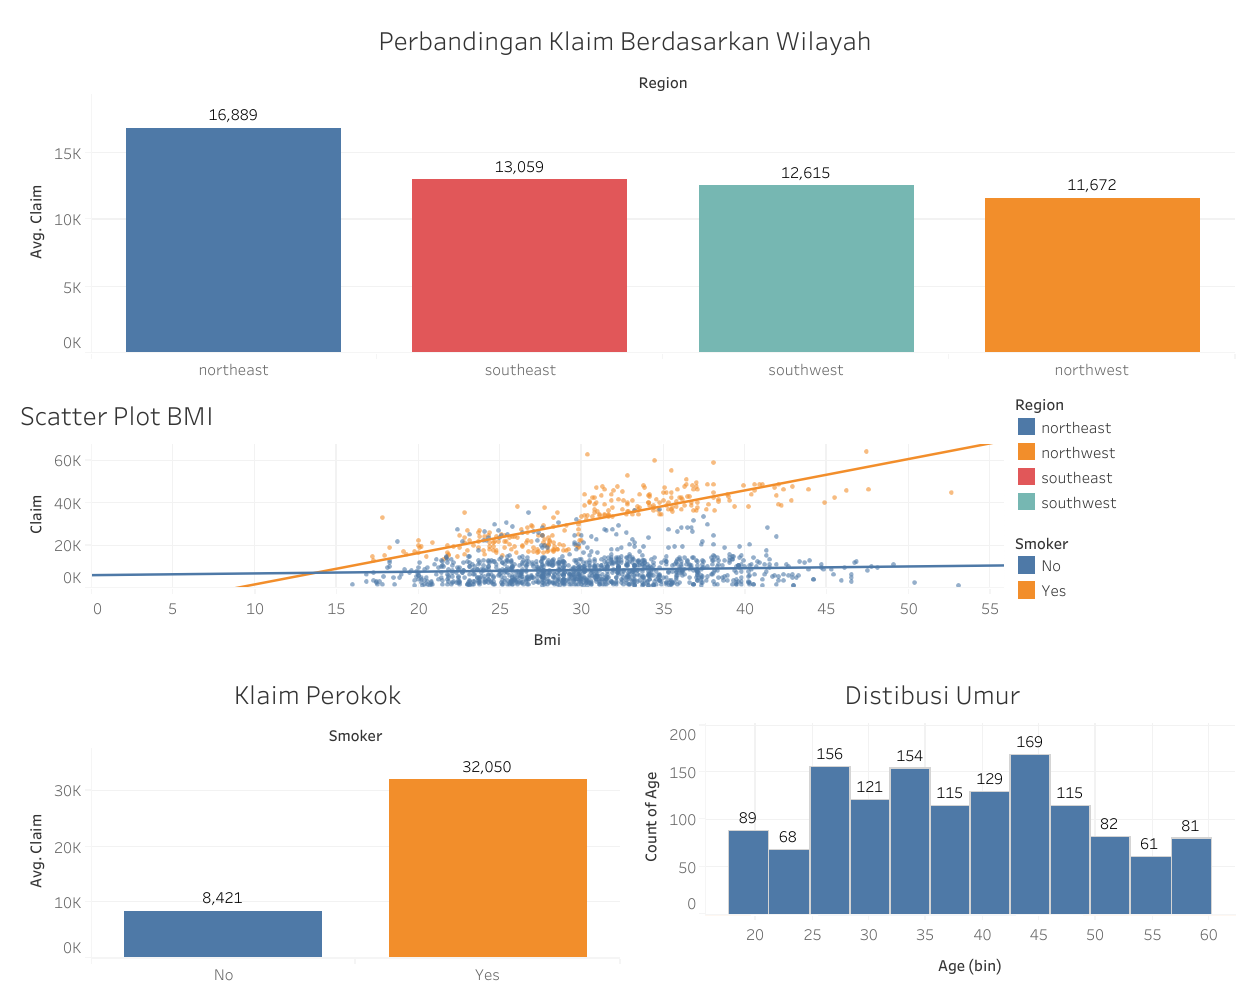

The dashboard page shown, as its layout file describes it:
{"tool":"tableau","page":{"name":"Dashboard","canvas":[1000,800],"ordinal":0},"visuals":[{"type":"worksheet","title":"geographic and claim","mark":"Automatic","rows":["claim"],"cols":["region"],"box":[8,8,984,300]},{"type":"worksheet","title":"Scatter Plot BMI","mark":"Automatic","rows":["claim"],"cols":["bmi"],"box":[8,308,799,222.7]},{"type":"legend","title":"geographic and claim","param":"[federated.0q3ztm109rkefp14gzm2y1jfkdsd].[none:region:nk]","box":[807,308,185,111.3]},{"type":"legend","title":"Klaim Perokok","param":"[federated.0q3ztm109rkefp14gzm2y1jfkdsd].[none:smoker:nk]","box":[807,419.3,185,111.3]},{"type":"worksheet","title":"Klaim Perokok","mark":"Automatic","rows":["claim"],"cols":["smoker"],"box":[8,530.7,492,261.3]},{"type":"worksheet","title":"age distribution","mark":"Automatic","rows":["age"],"cols":["Age (bin)"],"box":[500,530.7,492,261.3]}]}

Visuals, with their boxes in screenshot pixels (x1, y1, x2, y2), scaled from the page's 1000x800 canvas onto the 1249x999 screenshot:
"geographic and claim" worksheet: <region>10, 10, 1239, 385</region>
"Scatter Plot BMI" worksheet: <region>10, 385, 1008, 663</region>
"geographic and claim" legend: <region>1008, 385, 1239, 524</region>
"Klaim Perokok" legend: <region>1008, 524, 1239, 663</region>
"Klaim Perokok" worksheet: <region>10, 663, 624, 989</region>
"age distribution" worksheet: <region>624, 663, 1239, 989</region>
